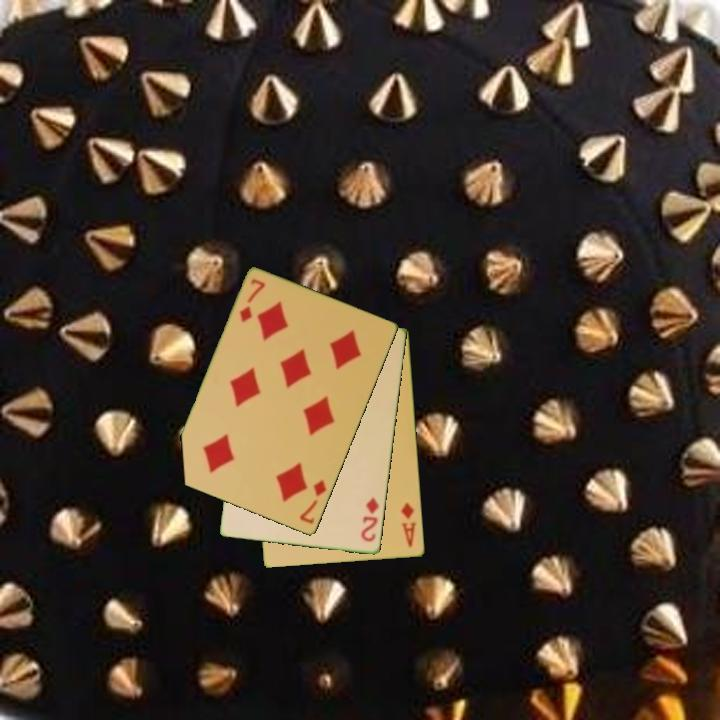2d: (358, 494, 382, 545)
7d: (296, 476, 329, 527), (236, 275, 268, 326)
Ad: (398, 499, 419, 550)
